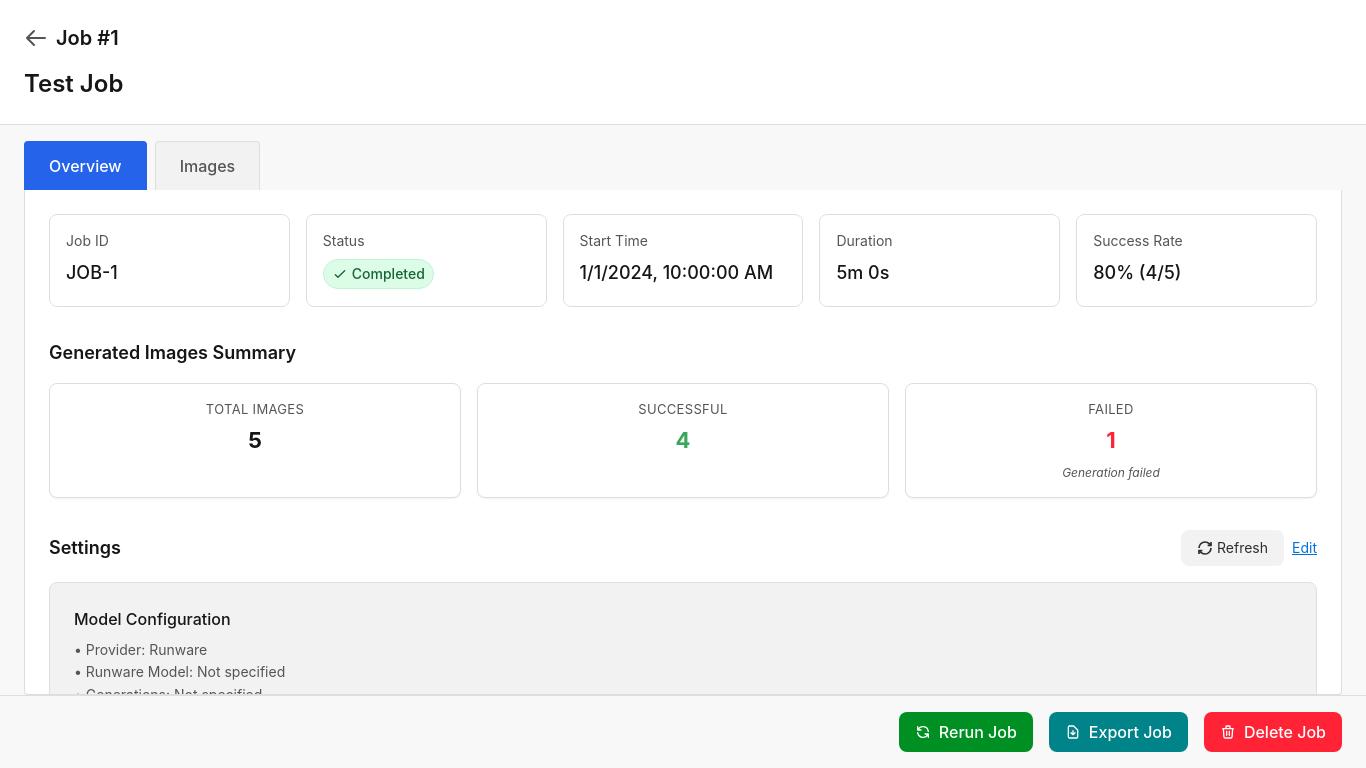
Scenario: SingleJobView › Edge Cases › handles empty images array
Expected: the heading "Job #1" is shown, [56,24,119,52]
Click the button "Images" at [207, 166], box [155,141,260,190]
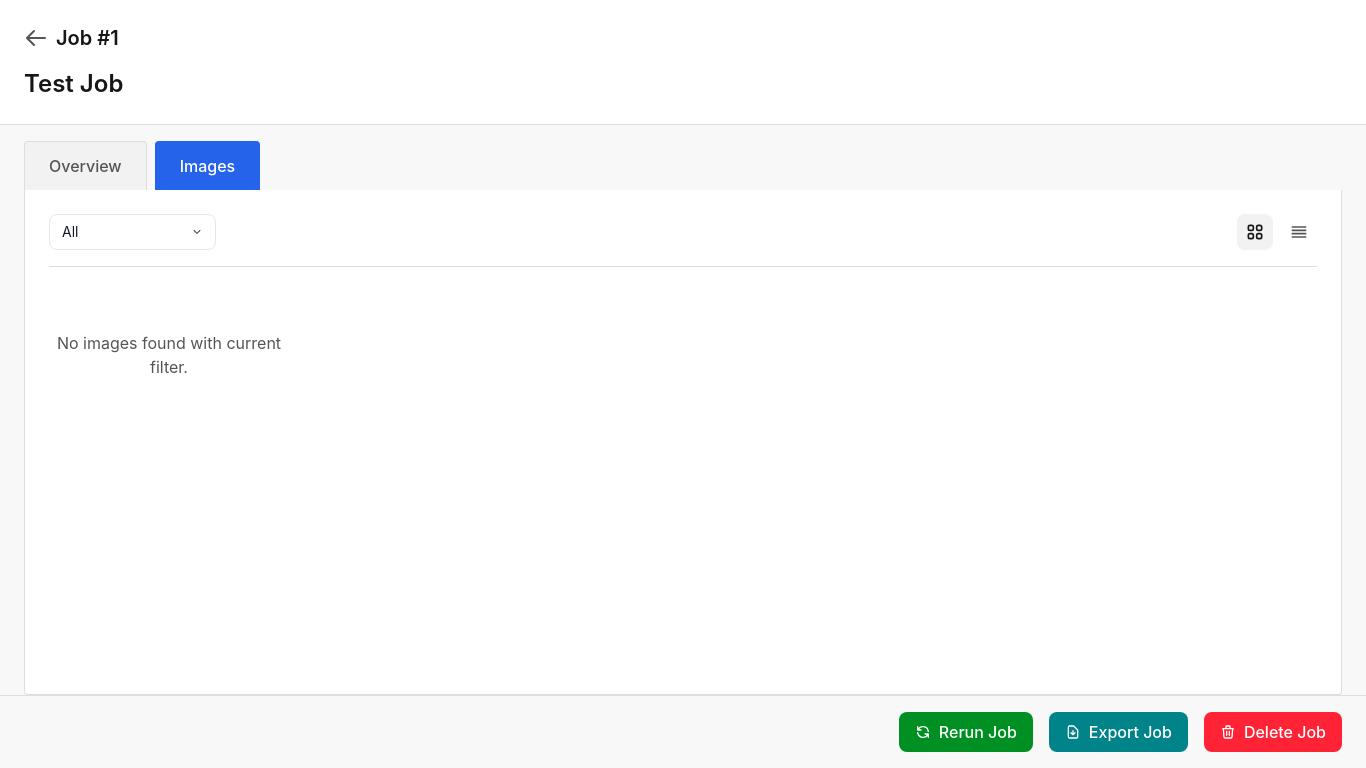
Expected: the text "No images found with current filter." is shown, [49,331,289,379]
